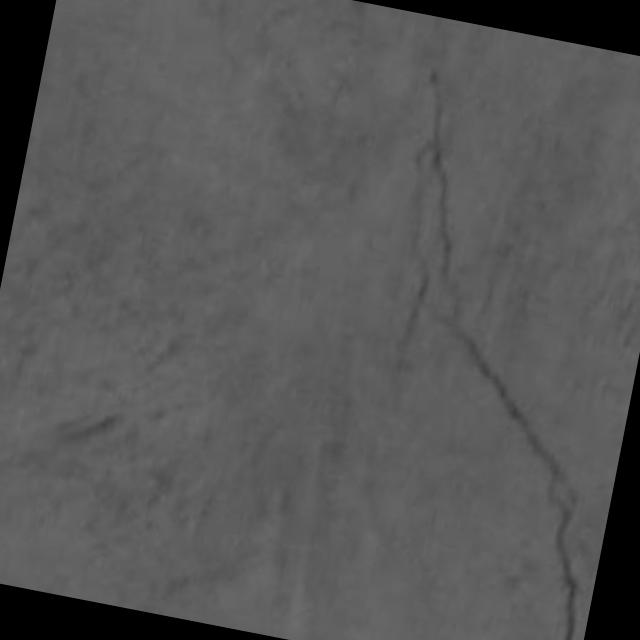crack: (426, 69, 580, 639), (440, 315, 580, 639), (427, 69, 455, 289)
